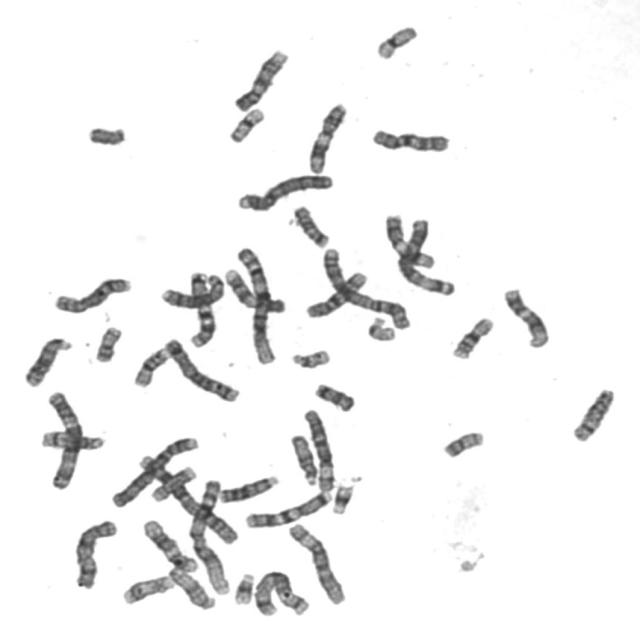A1: (232, 241, 279, 366), (186, 474, 233, 597)
A2: (134, 448, 241, 545), (318, 242, 412, 331)
A3: (384, 210, 458, 297), (41, 386, 84, 492)
B4: (106, 430, 201, 510), (232, 169, 336, 213)
B5: (160, 333, 243, 404), (250, 566, 314, 618)
C10: (300, 266, 371, 320), (368, 124, 453, 154)
C11: (380, 210, 438, 270), (304, 98, 349, 174)
C12: (138, 515, 200, 574), (499, 283, 552, 350)
C6: (284, 517, 349, 606), (299, 404, 338, 493)
C7: (240, 485, 335, 529), (182, 267, 218, 349)
C8: (49, 272, 134, 314), (156, 269, 227, 310)
C9: (230, 45, 291, 113), (220, 263, 289, 315)
D13: (19, 332, 75, 388), (214, 470, 281, 505)
D14: (568, 383, 618, 443), (36, 425, 106, 452)
D15: (164, 564, 218, 611), (286, 430, 320, 488)
E16: (447, 312, 497, 360), (129, 344, 171, 388)
E17: (146, 462, 199, 503), (118, 571, 175, 607)
E18: (288, 201, 332, 249), (310, 378, 357, 413)
F19: (372, 21, 420, 61), (224, 103, 267, 145)
F20: (438, 426, 487, 459), (90, 322, 124, 364)
G21: (327, 478, 357, 515), (229, 568, 257, 606)
G22: (286, 345, 333, 370), (363, 311, 399, 343)
X: (69, 514, 120, 591)
Y: (83, 120, 128, 148)
